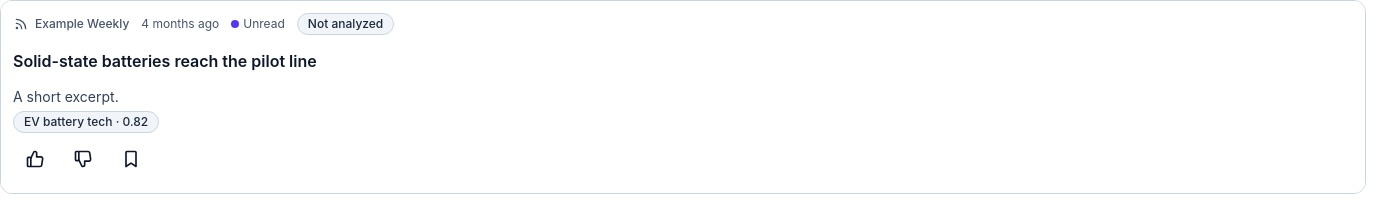
Test: the colour and the name of the action › is hidden from assistive technology, since the buttons do the same
Press the mouse on the element named "Solid-state batteries reach the pilot line": (683, 97) [0,0,1366,194]
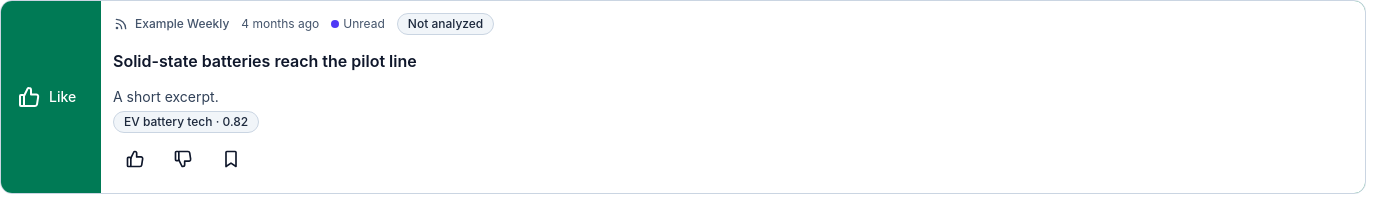
Expected: the element showing "Like" is shown
